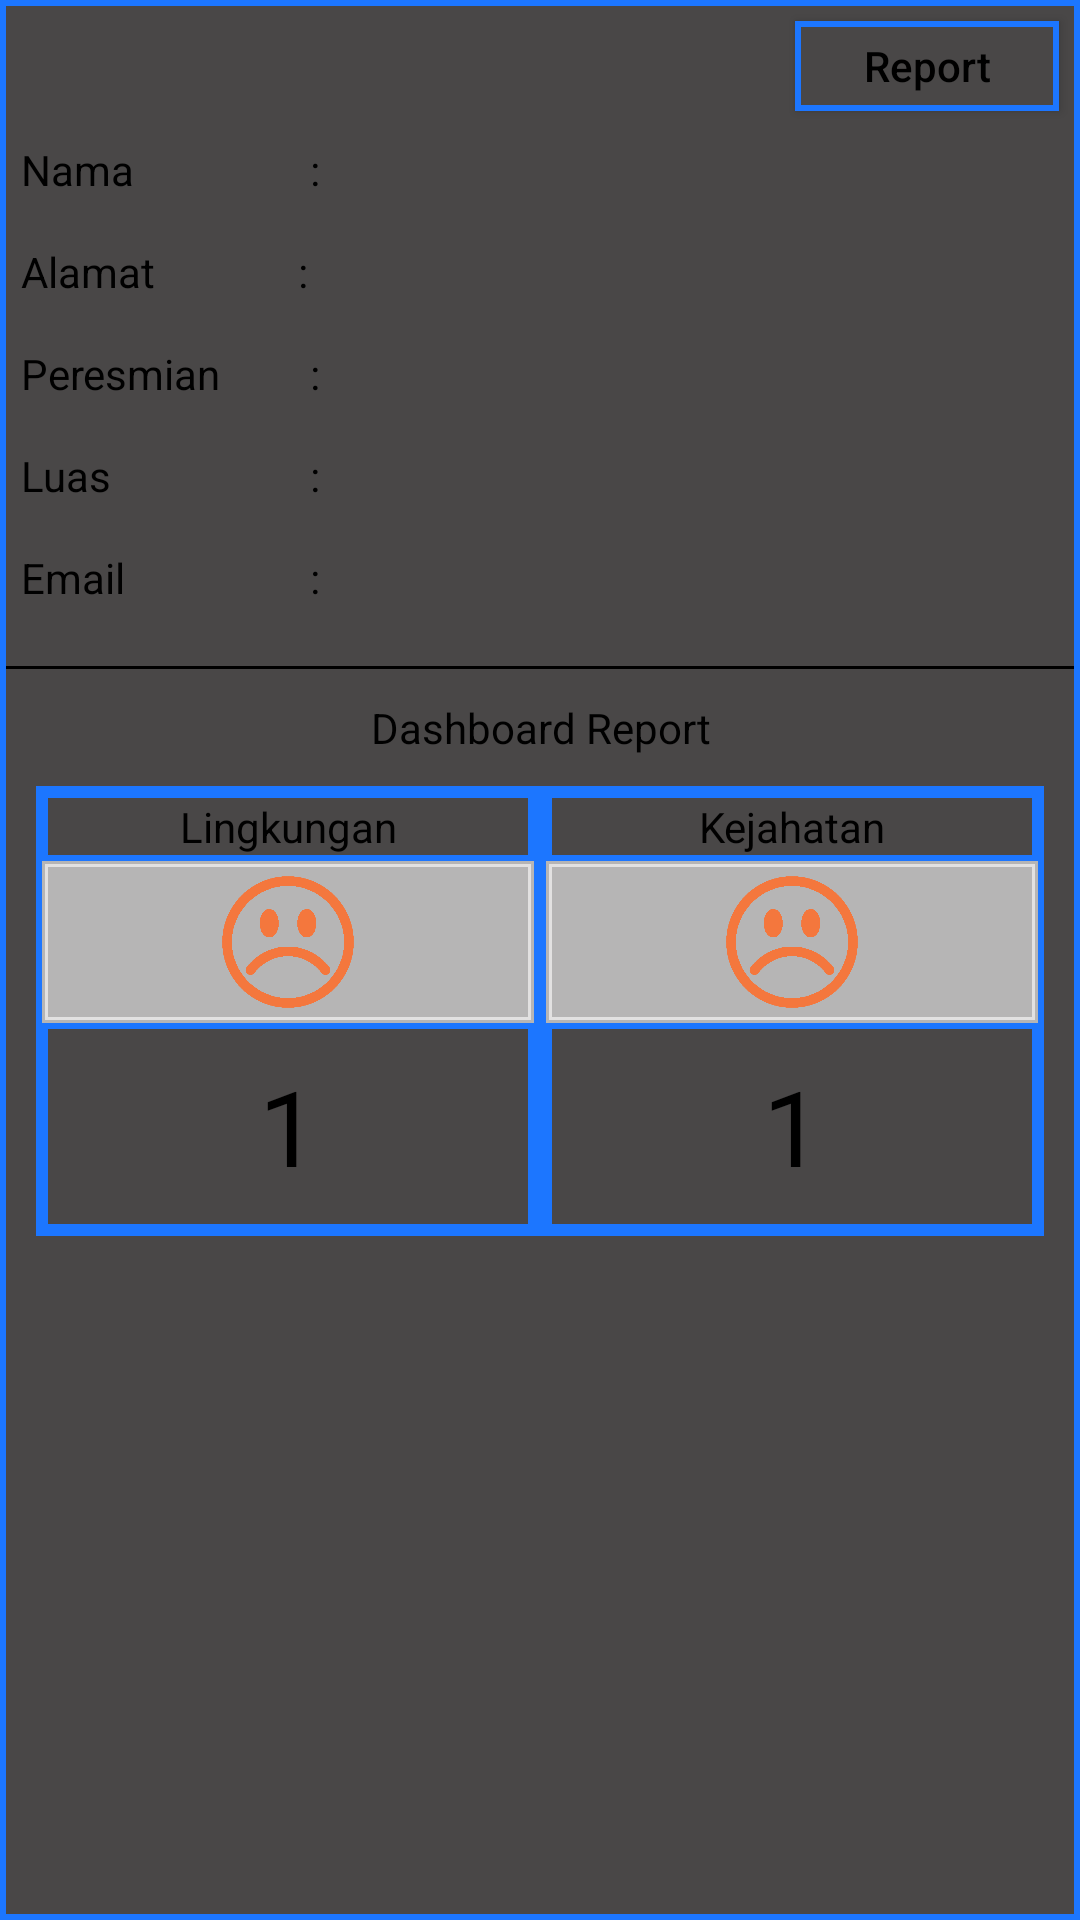

Icon click points for this 1080 x 1920 phone screenshot, format point (x, y):
sad: point (288, 942), point (792, 942)
